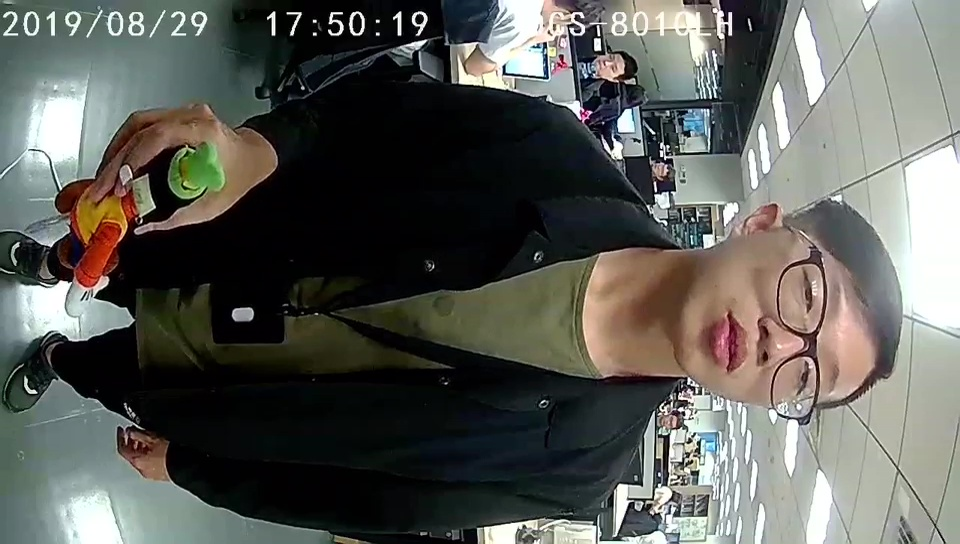goofy: (55, 141, 227, 317)
